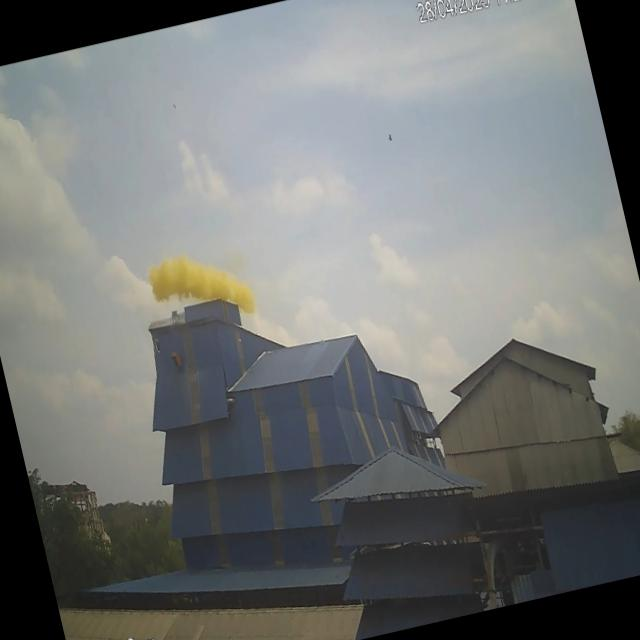yellow smoke: (141, 236, 257, 335)
